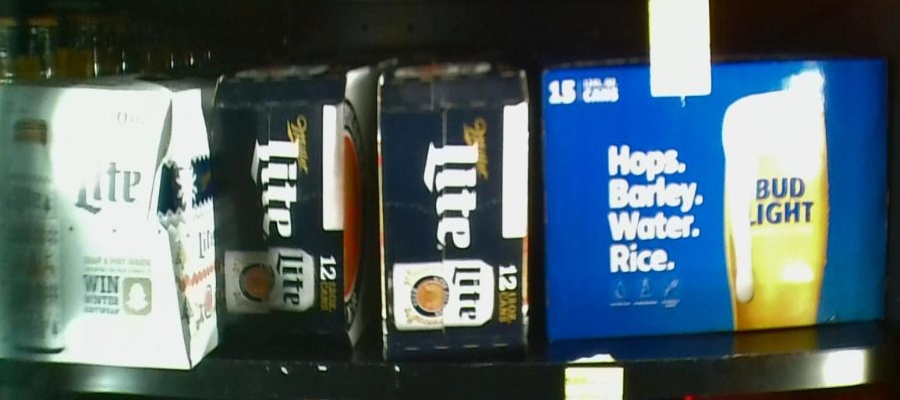bottle: (544, 51, 883, 332), (1, 81, 215, 366), (212, 62, 376, 357), (376, 58, 530, 357)
